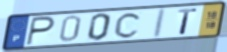0: (86, 12, 113, 42), (57, 14, 83, 44)
C: (112, 11, 144, 39)
I: (151, 7, 168, 40)
P: (25, 15, 57, 46)
T: (177, 7, 198, 35)
